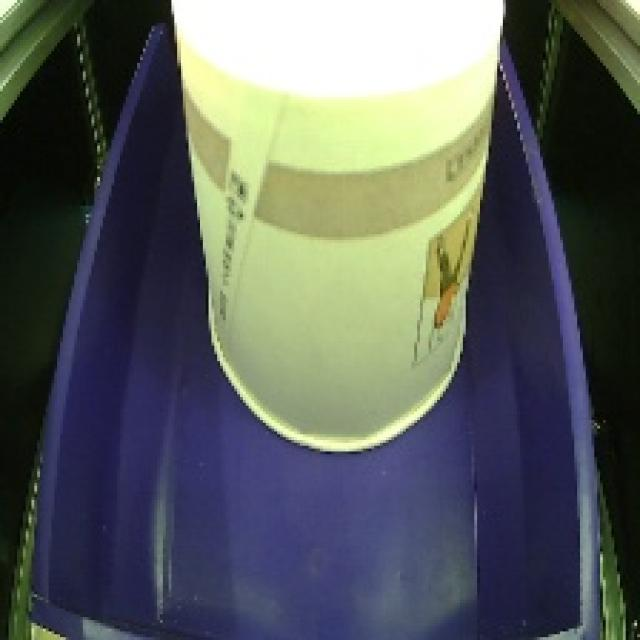cups: (159, 0, 523, 462)
